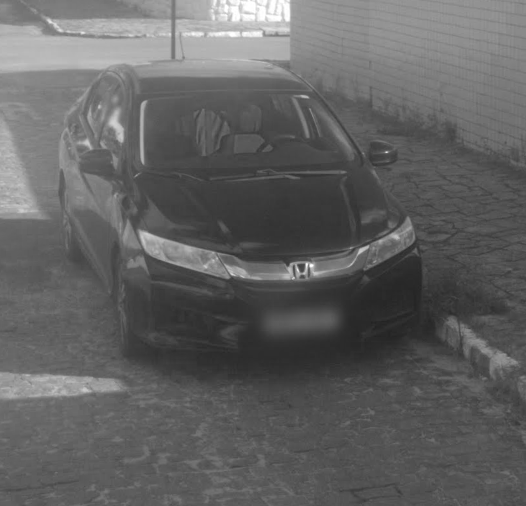car: (52, 32, 428, 368)
